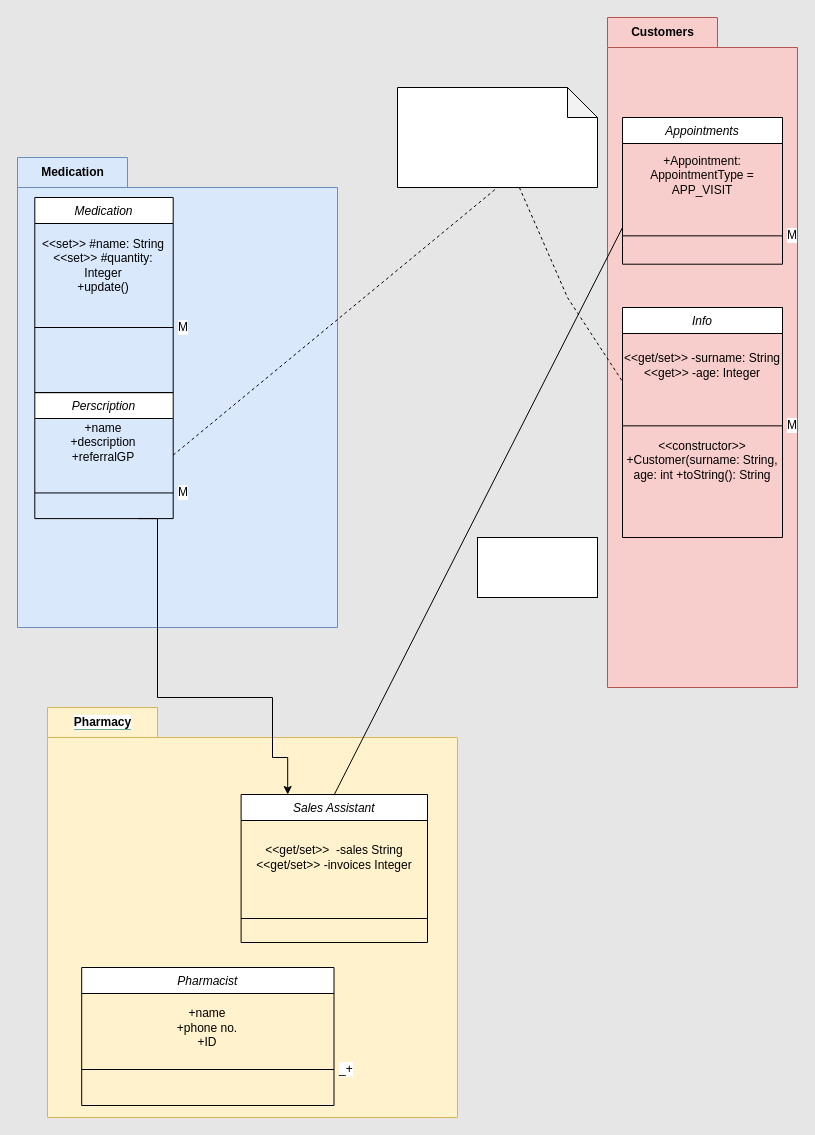
This 815x1135 diagram has some shape labels left out. Here are the shapes that lost their labels. From the top down, the centre of each, then its label:
point (497, 137): GP
point (537, 567): Main.java/main.php
